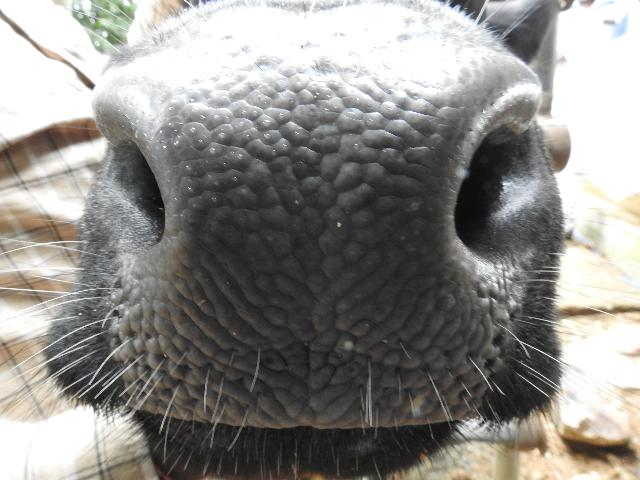Muzzle: (168, 70, 456, 410)
